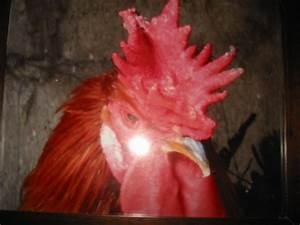hen: (17, 0, 246, 218)
